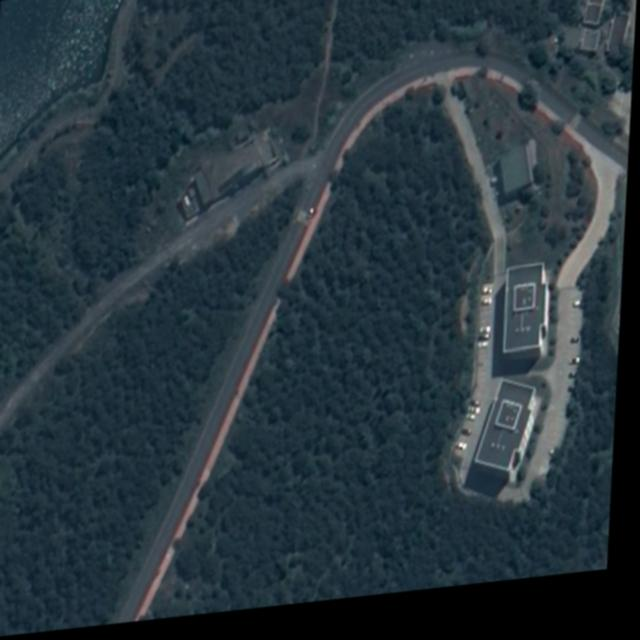Batiment: (480, 393, 539, 482), (508, 276, 550, 364), (577, 0, 626, 65), (178, 191, 209, 227), (580, 41, 600, 64)
